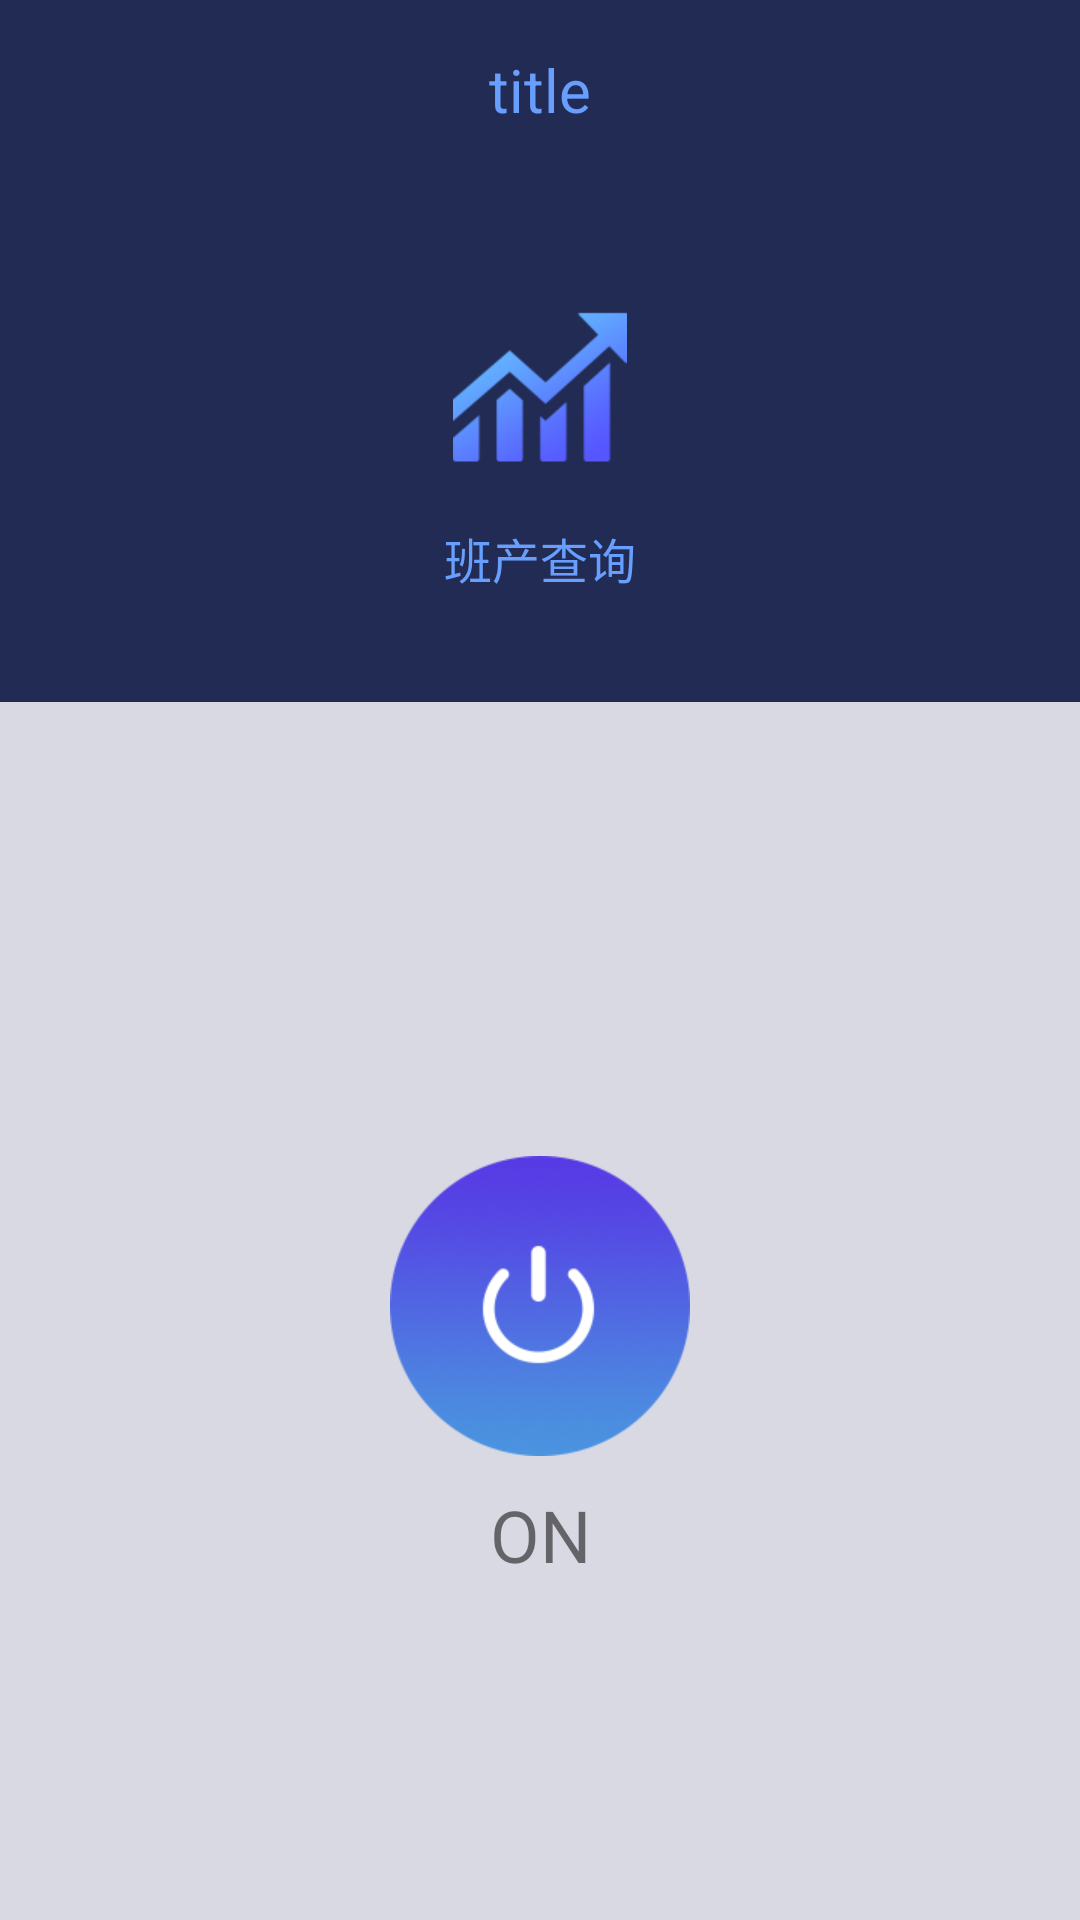

Screen size 1080x1920. Icon name, then its box in pixels as detection(x1, y1, x2, y2):
warm on: detection(390, 1156, 690, 1456)
yield: detection(453, 312, 627, 462)
